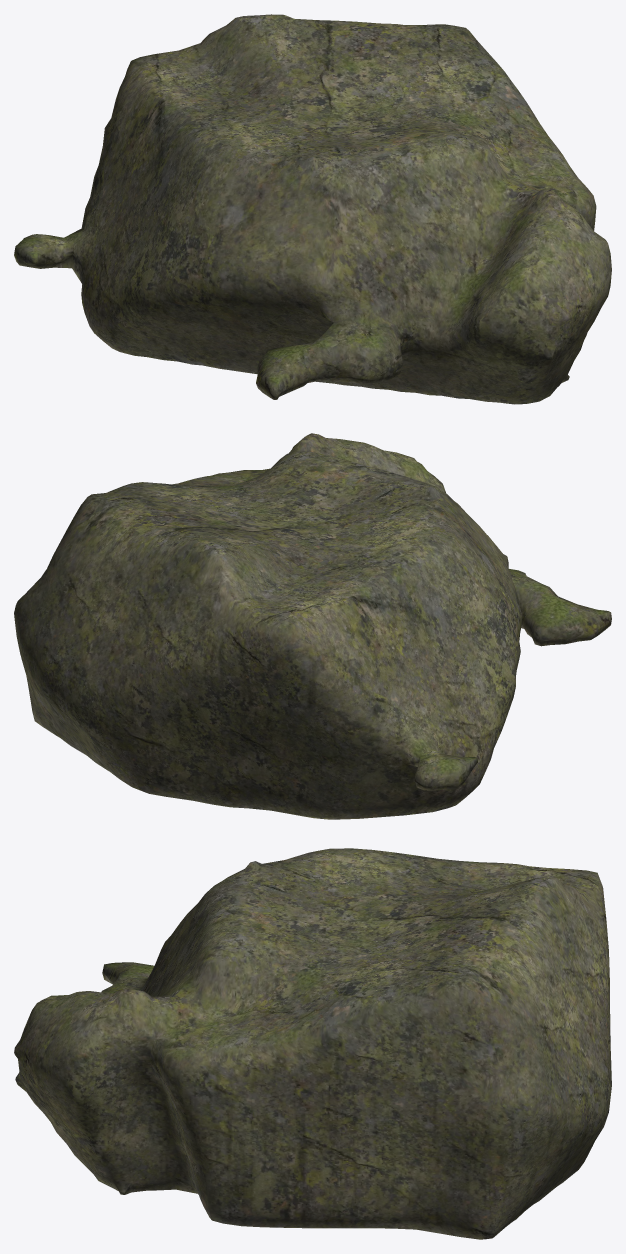
The model's file is rock_a.glb.
3 views of the same model, one above another, from view 1: azimuth 30°, elevation 25°; view 2: azimuth 150°, elevation 25°; view 3: azimuth 270°, elevation 25° (orthographic). The views are drawn at different scales.
Parts seen in each view (by area): view 1: rock_a; view 2: rock_a; view 3: rock_a.
Part boxes in pixels (left/top/right/bottom): rock_a: left=14, top=14, right=611, bottom=404; rock_a: left=14, top=433, right=611, bottom=819; rock_a: left=14, top=848, right=611, bottom=1239.
Bounding box in the file's own units: 7.59 × 4.15 × 8.21.
Materials: 1 (1 with a texture image).
